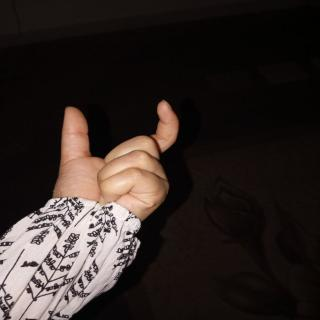NOON: (46, 94, 200, 234)
